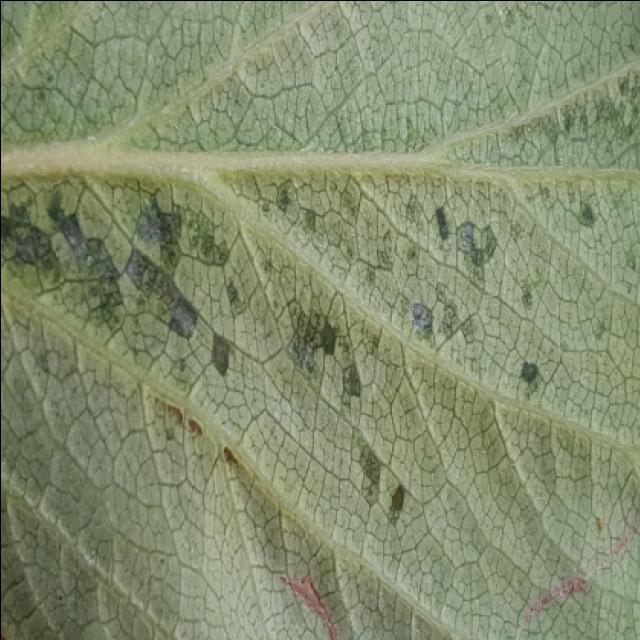Angular Leafspot: (2, 171, 640, 529)
